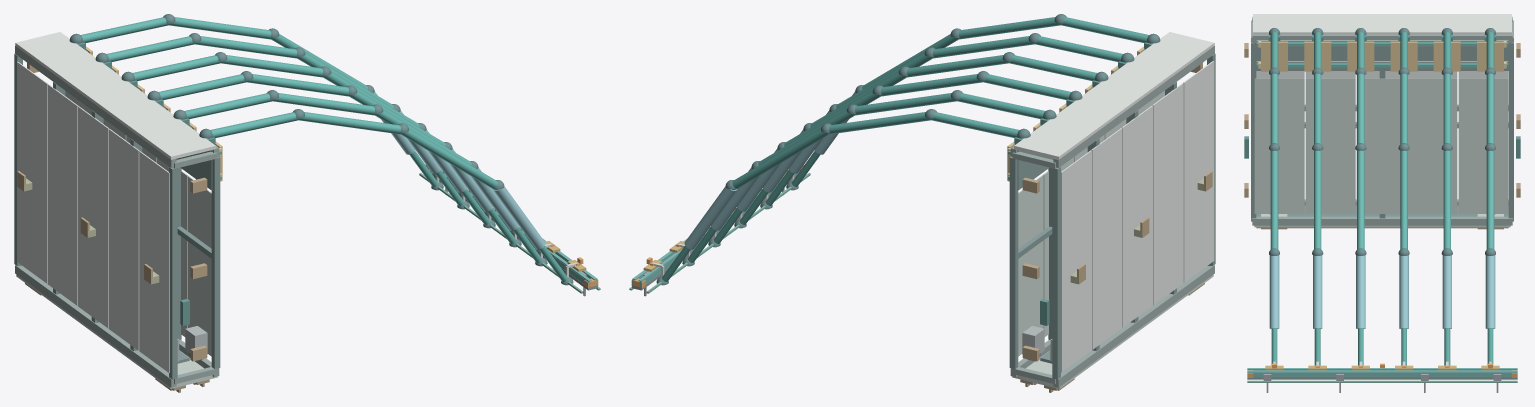
The model's file is 00_W01_M02_P03_SOURCE_REBUILD.glb.
3 renders of one model, left to right at view 1: azimuth 30°, elevation 25°; view 2: azimuth 150°, elevation 25°; view 3: azimuth 270°, elevation 25°, orthographic. The views are drawn at different scales.
Parts seen in each view (by area): view 1: M1_W01_P_wall_top_coping, M1_W01_P_outer_back_2, M1_W01_P_outer_back_4, M1_W01_P_outer_back_5, M1_W01_P_outer_back_3, M1_W01_P_outer_back_1, M1_W01_P_front_lower_1, M1_W01_F_long_0_0, M1_W01_F_post_1_0, M1_W01_F_post_0_0, M1_W01_F_long_0_1, M1_A01_link3 (+20 smaller); view 2: M1_W01_P_wall_top_coping, M1_W01_P_outer_back_1, M1_W01_P_outer_back_4, M1_W01_P_outer_back_2, M1_W01_P_outer_back_3, M1_W01_P_outer_back_5, M1_W01_P_front_lower_5, M1_W01_F_long_0_0, M1_W01_F_post_1_4, M1_W01_F_post_0_4, M1_W01_F_long_0_1, M1_A06_link3 (+19 smaller); view 3: M1_W01_P_front_lower_1, M1_W01_P_front_lower_5, M1_W01_P_front_lower_2, M1_W01_P_front_lower_4, M1_W01_P_front_lower_3, M1_W01_P_wall_top_coping, M1_W01_F_long_1_0, M1_W01_F_root_backing_plate, M1_P03_upright_2, M1_W01_F_long_1_1, M1_W01_F_post_1_4, M1_A01_link3 (+49 smaller).
Part boxes in pixels (x1,y1,x2,y2): M1_W01_P_wall_top_coping: (15,32,215,159); M1_W01_P_outer_back_2: (108,128,139,350); M1_W01_P_outer_back_4: (47,84,78,305); M1_W01_P_outer_back_5: (17,61,47,283); M1_W01_P_outer_back_3: (78,106,108,328); M1_W01_P_outer_back_1: (139,151,169,372); M1_W01_P_front_lower_1: (187,176,211,356); M1_W01_F_long_0_0: (15,265,176,387); M1_W01_F_post_1_0: (211,156,220,368); M1_W01_F_post_0_0: (169,167,177,379); M1_W01_F_long_0_1: (15,46,176,167); M1_A01_link3: (401,129,497,190); M1_W01_P_wall_top_coping: (1014,32,1214,159); M1_W01_P_outer_back_1: (1183,61,1214,282); M1_W01_P_outer_back_4: (1091,128,1122,349); M1_W01_P_outer_back_2: (1152,83,1183,304); M1_W01_P_outer_back_3: (1122,105,1152,327); M1_W01_P_outer_back_5: (1061,150,1091,372); M1_W01_P_front_lower_5: (1018,175,1043,356); M1_W01_F_long_0_0: (1053,265,1214,387); M1_W01_F_post_1_4: (1009,156,1018,368); M1_W01_F_post_0_4: (1052,167,1060,379); M1_W01_F_long_0_1: (1053,46,1214,167); M1_A06_link3: (732,129,828,190); M1_W01_P_front_lower_1: (1254,78,1304,213); M1_W01_P_front_lower_5: (1458,78,1508,213); M1_W01_P_front_lower_2: (1305,78,1355,213); M1_W01_P_front_lower_4: (1408,78,1457,213); M1_W01_P_front_lower_3: (1356,78,1400,213); M1_W01_P_wall_top_coping: (1253,14,1511,34); M1_W01_F_long_1_0: (1252,216,1512,225); M1_W01_F_root_backing_plate: (1255,43,1509,70); M1_P03_upright_2: (1247,372,1517,377); M1_W01_F_long_1_1: (1252,33,1512,42); M1_W01_F_post_1_4: (1508,42,1513,218); M1_A01_link3: (1270,150,1278,249).
Bounding box in the file's own units: 5.43 × 3.03 × 3.58.
